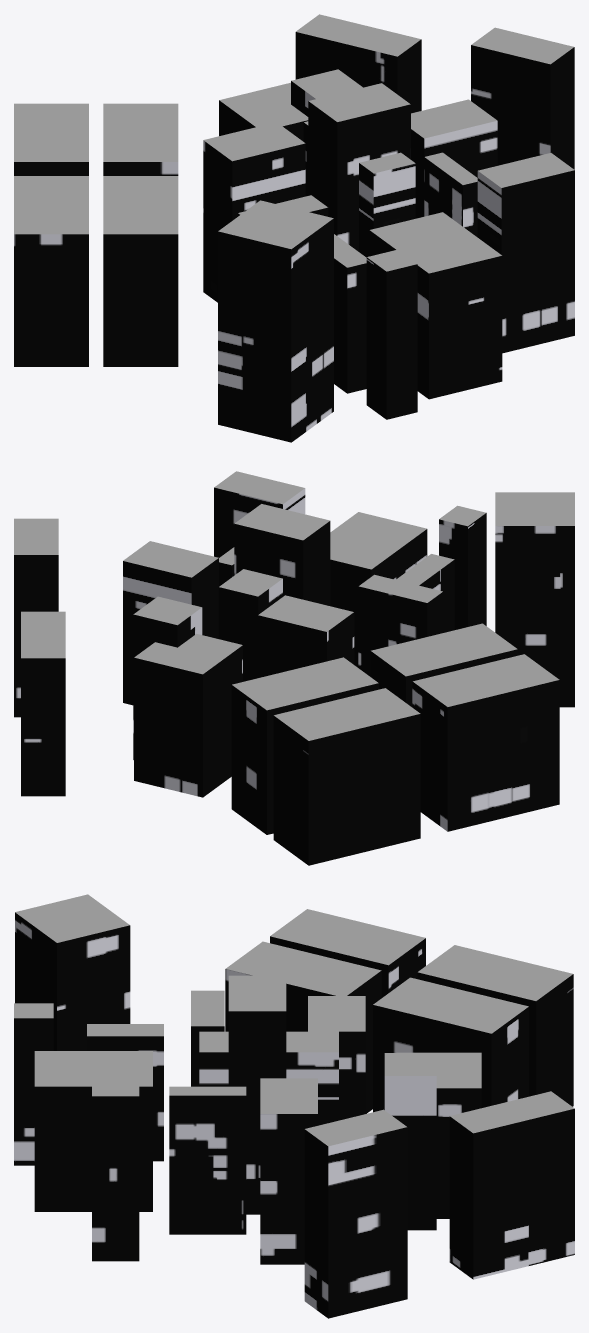
File: Downtown02.fbx
3 renders of one model, top to bottom at view 1: azimuth 30°, elevation 25°; view 2: azimuth 150°, elevation 25°; view 3: azimuth 270°, elevation 25°, orthographic. The views are drawn at different scales.
Visible parts, largest first — view 1: Downtown02; view 2: Downtown02; view 3: Downtown02.
Boxes of the visible parts, <box> form: Downtown02: <box>14,14,574,442</box>; Downtown02: <box>14,471,574,865</box>; Downtown02: <box>14,894,574,1318</box>.
Bounding box in the file's own units: 1.76 × 0.6028 × 1.51.
